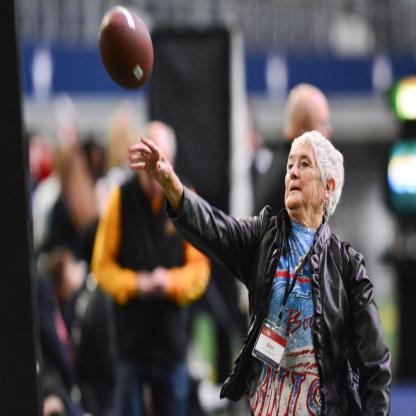Ball: (96, 4, 155, 90)
